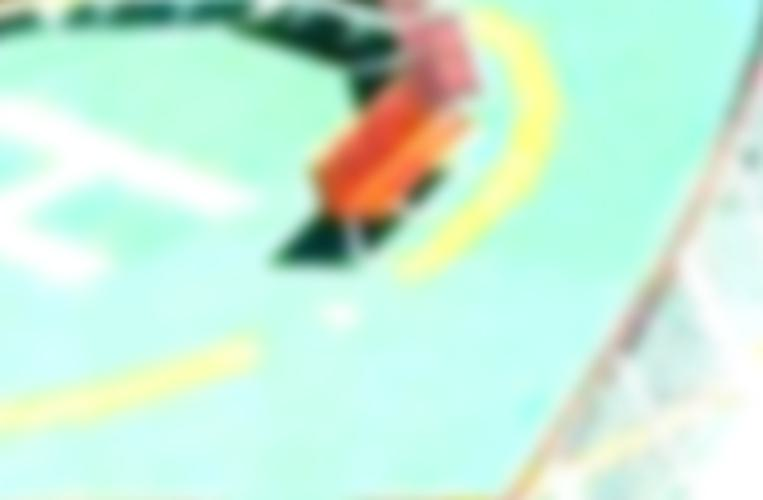Apron: (1, 1, 561, 418)
